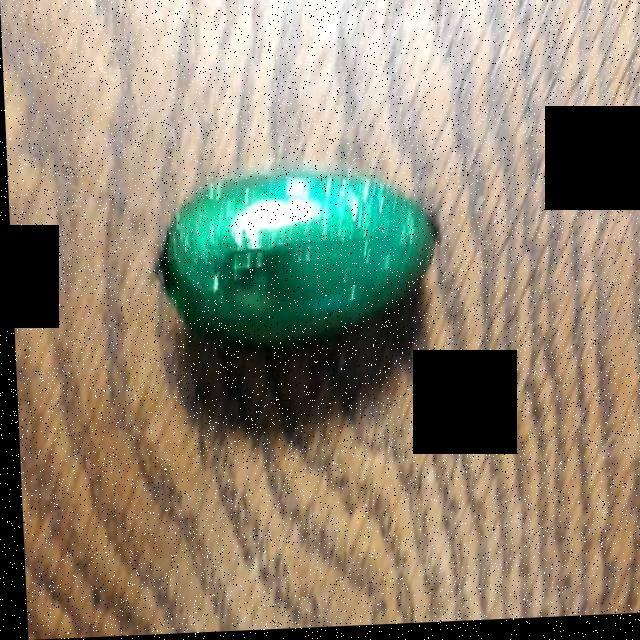chocolate: (177, 174, 432, 350)
